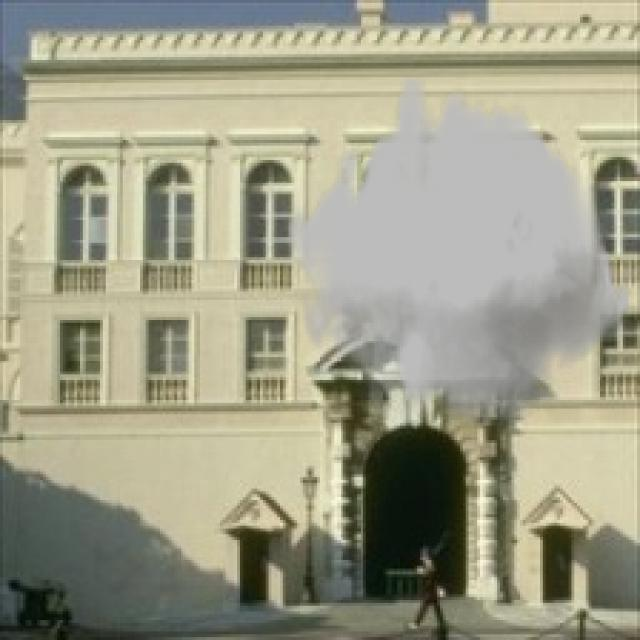Smoke: (286, 77, 632, 426)
